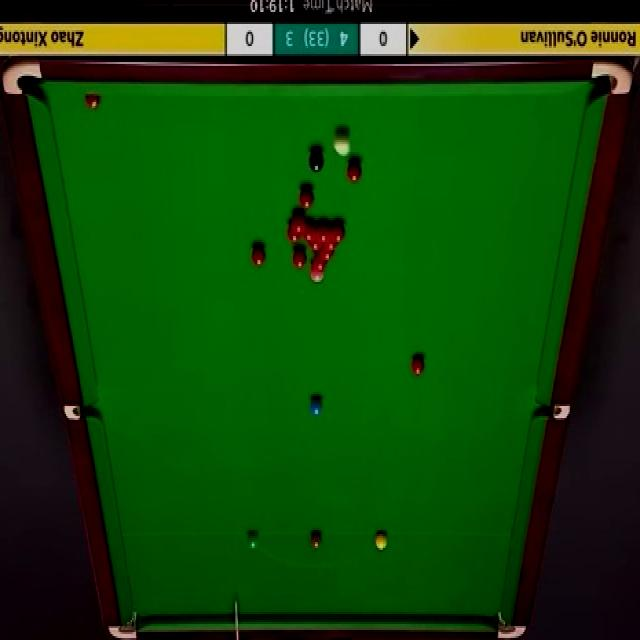pocket: (591, 55, 634, 97), (3, 58, 46, 97), (110, 608, 139, 640), (497, 612, 527, 640), (535, 403, 573, 420), (66, 405, 100, 420)
